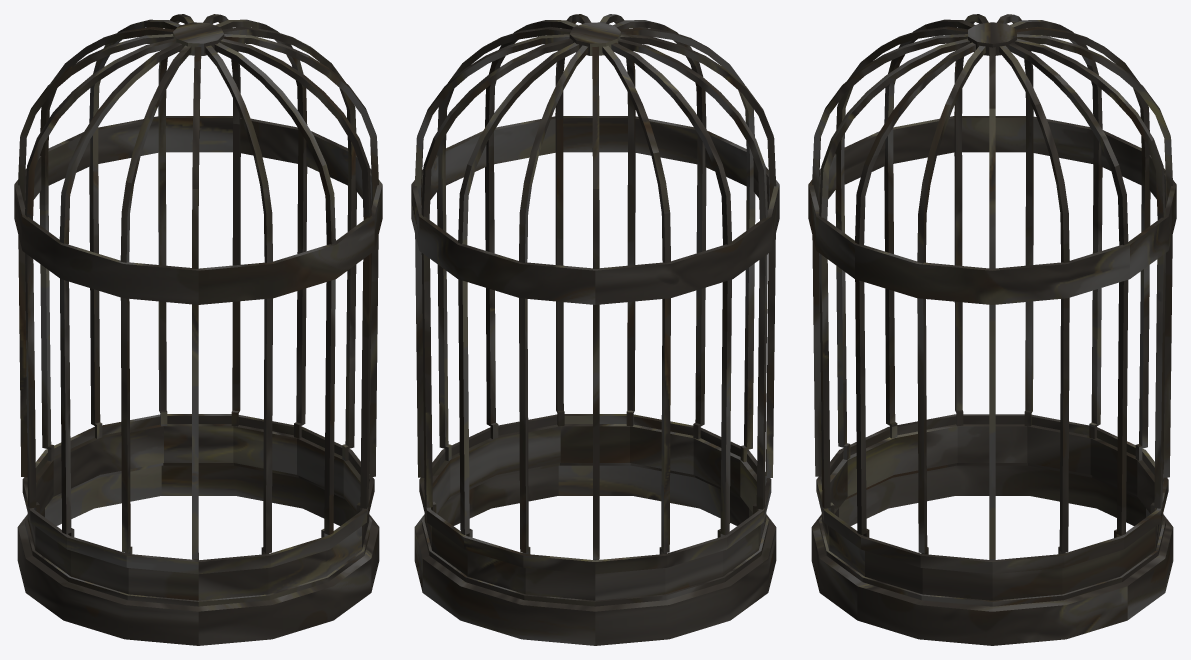
File: Cage.fbx
The picture shows the model from 3 angles, left to right: view 1: azimuth 30°, elevation 25°; view 2: azimuth 150°, elevation 25°; view 3: azimuth 270°, elevation 25°; orthographic projection.
Visible parts, largest first — view 1: Cage; view 2: Cage; view 3: Cage.
Part boxes in pixels (bbox=[...]): Cage: bbox=[14, 14, 382, 645]; Cage: bbox=[411, 14, 779, 645]; Cage: bbox=[808, 14, 1176, 645].
Bounding box in the file's own units: 1.68 × 2.72 × 1.69.
1 material, 1 textured.
